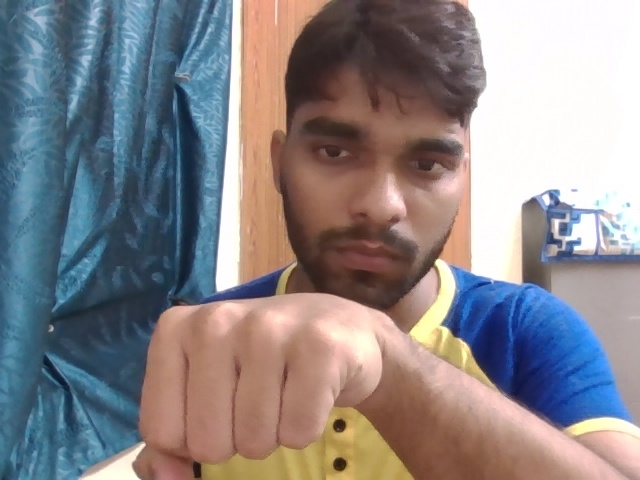Yes: (107, 275, 398, 480)
